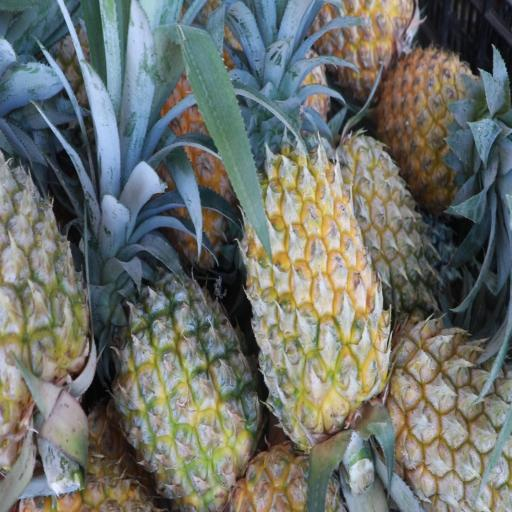Pineapple - v8 v1: (248, 150, 384, 438), (123, 276, 258, 504), (384, 42, 484, 190), (314, 0, 410, 92)
